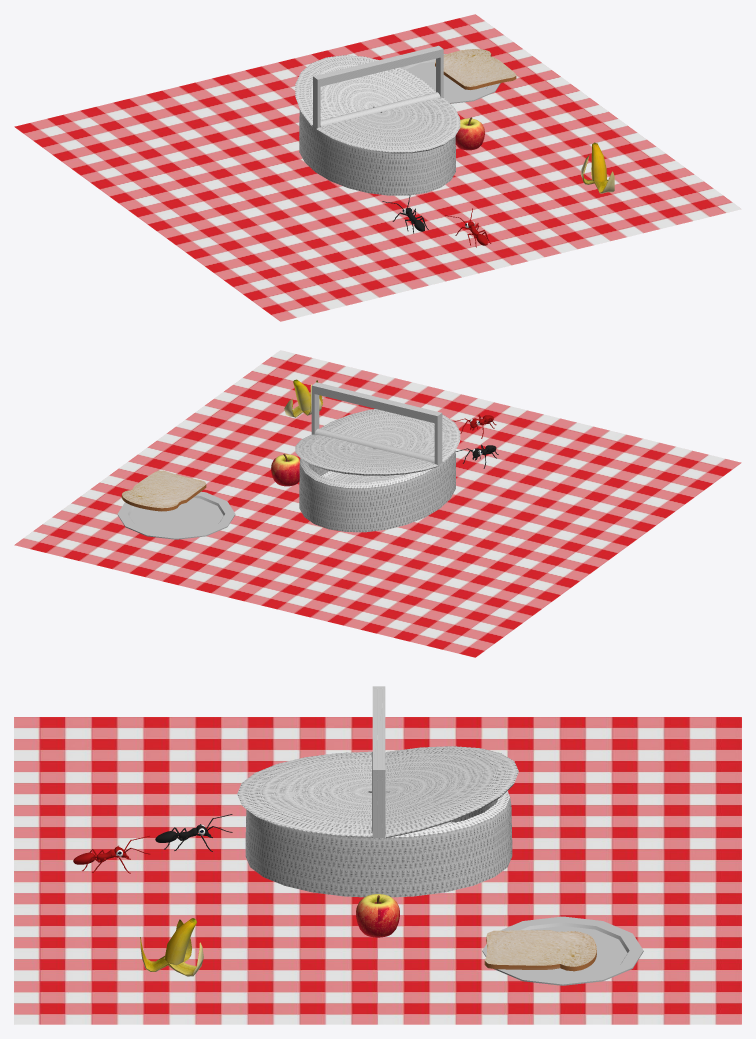
Rendered from parkPicnic.fbx.
3 views of the same model, one above another, from view 1: azimuth 30°, elevation 25°; view 2: azimuth 150°, elevation 25°; view 3: azimuth 270°, elevation 25° (orthographic). The views are drawn at different scales.
Parts seen in each view (by area): view 1: blanket, picNicBasket, bread, plate, BananaPeel, apple; view 2: blanket, picNicBasket, plate, bread, apple, BananaPeel; view 3: blanket, picNicBasket, plate, bread, BananaPeel, apple, MiddleLeg_2, MiddleLeg.
Boxes of the visible parts, <box> form: blanket: <box>14,14,741,321</box>; picNicBasket: <box>295,45,460,195</box>; bread: <box>435,49,516,89</box>; plate: <box>400,54,500,103</box>; BananaPeel: <box>581,142,614,193</box>; apple: <box>455,117,484,150</box>; blanket: <box>14,350,741,657</box>; picNicBasket: <box>295,382,460,532</box>; plate: <box>117,491,235,539</box>; bread: <box>121,470,206,511</box>; apple: <box>271,453,299,486</box>; BananaPeel: <box>284,379,322,417</box>; blanket: <box>14,717,741,1024</box>; picNicBasket: <box>237,686,518,897</box>; plate: <box>482,916,643,985</box>; bread: <box>484,930,596,971</box>; BananaPeel: <box>140,918,203,976</box>; apple: <box>356,894,399,937</box>; MiddleLeg_2: <box>73,835,150,873</box>; MiddleLeg: <box>155,814,232,851</box>.
Bounding box in the file's own units: 150 × 32.73 × 150.
12 materials, 9 textured.
